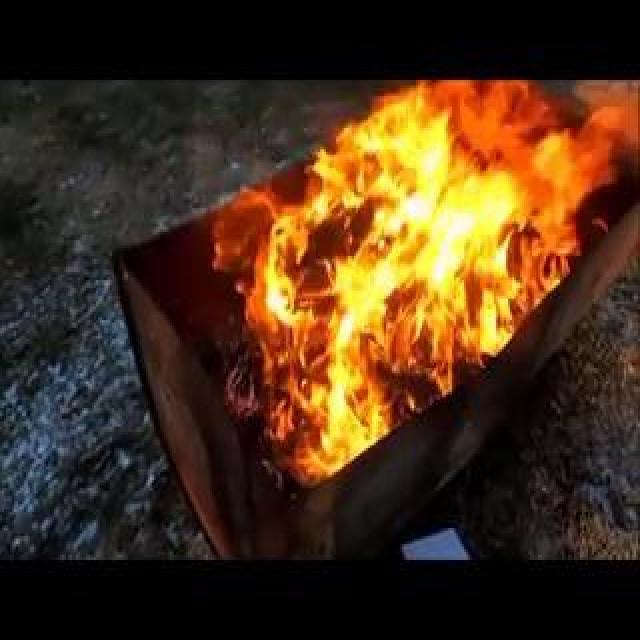Fire: (210, 88, 619, 464)
